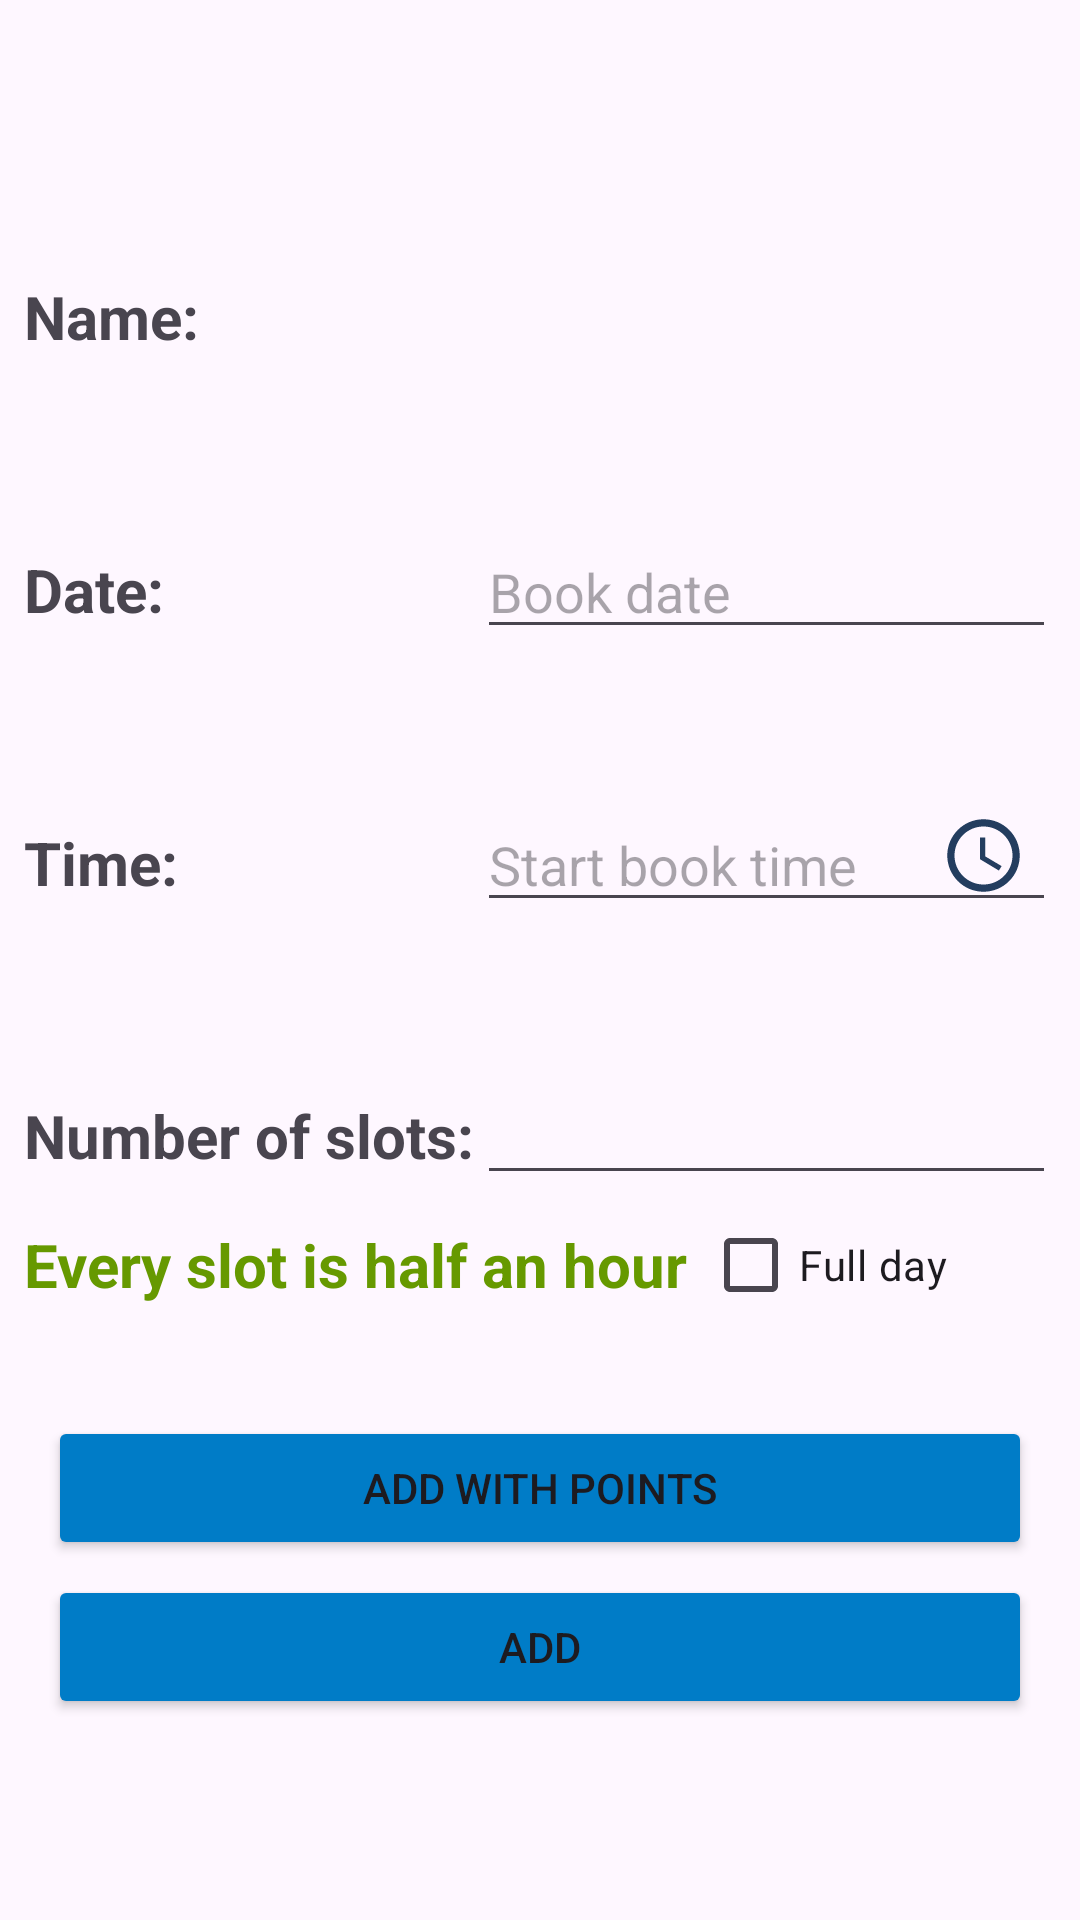

Where to tap for icons on this 1080 x 1920 app screen, as (x=x, y=y):
access time: (x=983, y=855)
